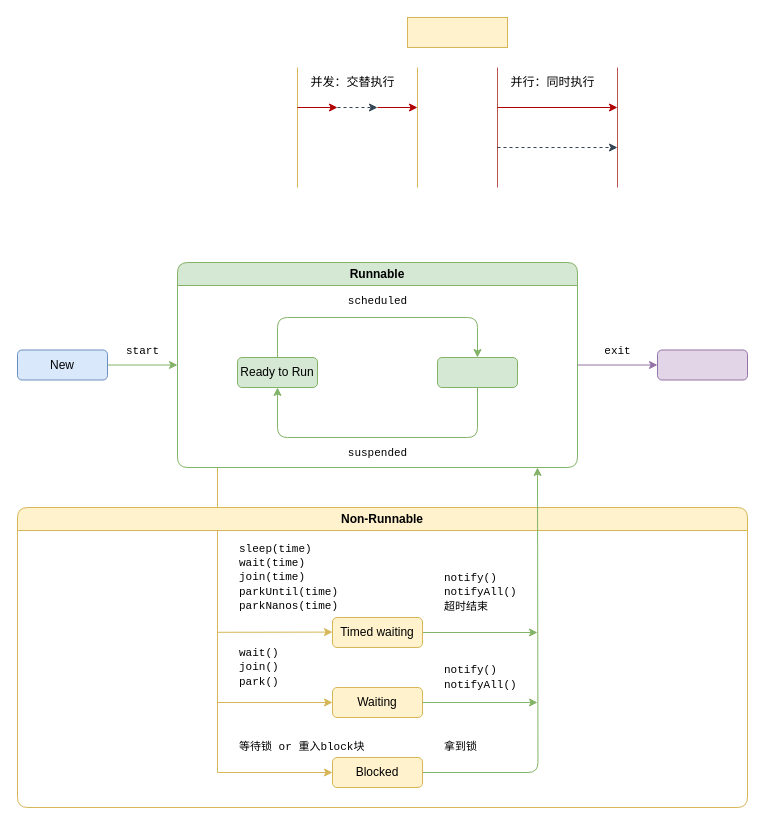
Image size: 765x825. Some labels were removed from this diagram. Here are the shapes that lost their labels. From the top down, the centre of each, then its label:
At point (457, 32): "横向：时间轴".
At point (477, 372): "Rnning".
At point (702, 364): "Terminated".
